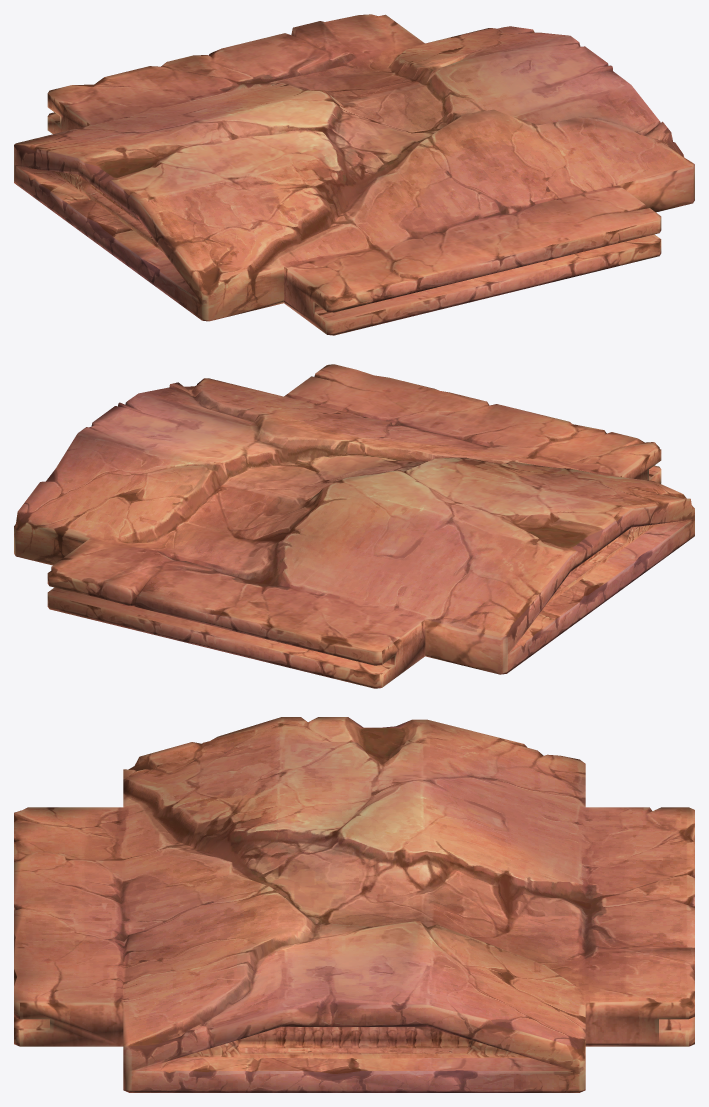
The model's file is kor_vod_ruins_roof.glb.
The picture shows the model from 3 angles, top to bottom: view 1: azimuth 30°, elevation 25°; view 2: azimuth 150°, elevation 25°; view 3: azimuth 270°, elevation 25°; orthographic projection. The views are drawn at different scales.
Visible parts, largest first — view 1: kor_vod_ruins_roof; view 2: kor_vod_ruins_roof; view 3: kor_vod_ruins_roof.
Boxes of the visible parts, <box> form: kor_vod_ruins_roof: <box>14,14,694,335</box>; kor_vod_ruins_roof: <box>14,364,694,688</box>; kor_vod_ruins_roof: <box>14,717,694,1092</box>.
Size of the model in its own units: 2.8 by 0.4537 by 2.8.
1 material, 1 textured.
